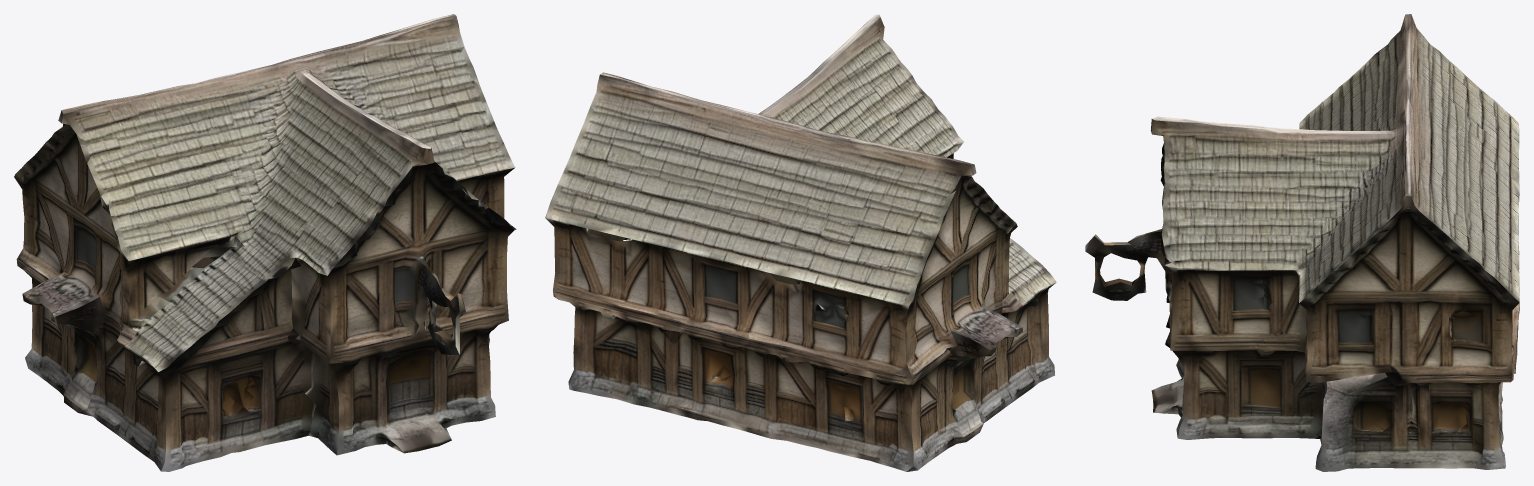
File: tavern.glb
3 views of the same model, side by side, from view 1: azimuth 30°, elevation 25°; view 2: azimuth 150°, elevation 25°; view 3: azimuth 270°, elevation 25° (orthographic). The views are drawn at different scales.
Parts seen in each view (by area): view 1: Medieval House; view 2: Medieval House; view 3: Medieval House.
Part boxes in pixels (x1,y1,x2,y2): Medieval House: [14, 14, 516, 471]; Medieval House: [545, 14, 1056, 471]; Medieval House: [1085, 14, 1519, 471].
Bounding box in the file's own units: 11.9 × 8 × 11.02.
1 material, 1 textured.
